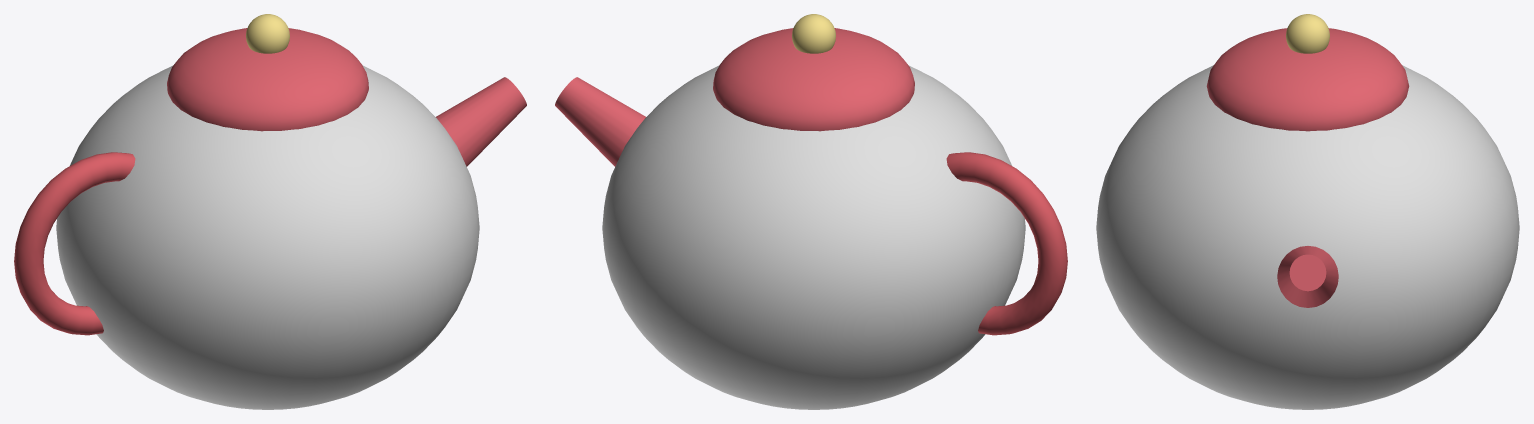
The model's file is teapot.fbx.
3 views of the same model, side by side, from view 1: azimuth 30°, elevation 25°; view 2: azimuth 150°, elevation 25°; view 3: azimuth 270°, elevation 25° (orthographic).
Visible parts, largest first — view 1: Sphere; view 2: Sphere; view 3: Sphere.
Boxes of the visible parts, x1,y1,x2,y2 form: Sphere: (14, 14, 526, 409); Sphere: (555, 14, 1067, 409); Sphere: (1096, 14, 1519, 409).
Size of the model in its own units: 3.18 by 2.22 by 2.3.
